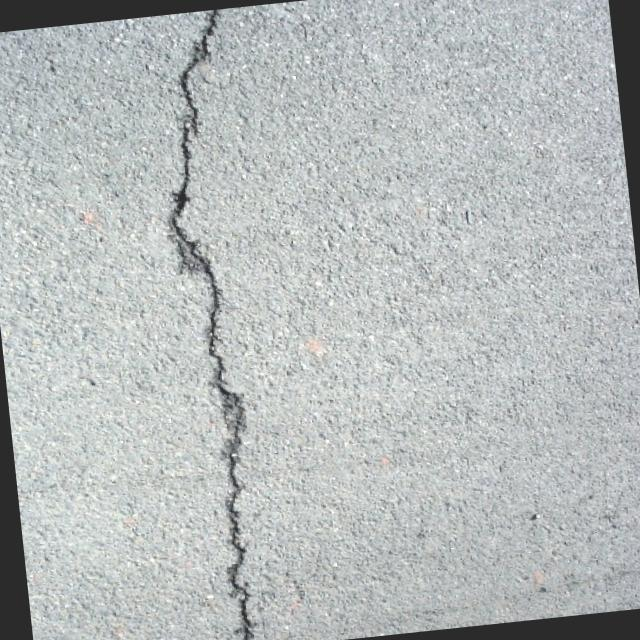crack: (135, 9, 290, 640)
